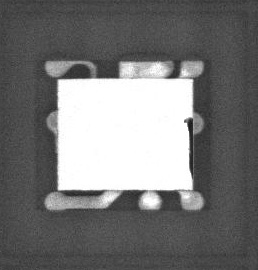DIE_BROKEN: (183, 115, 194, 178)
